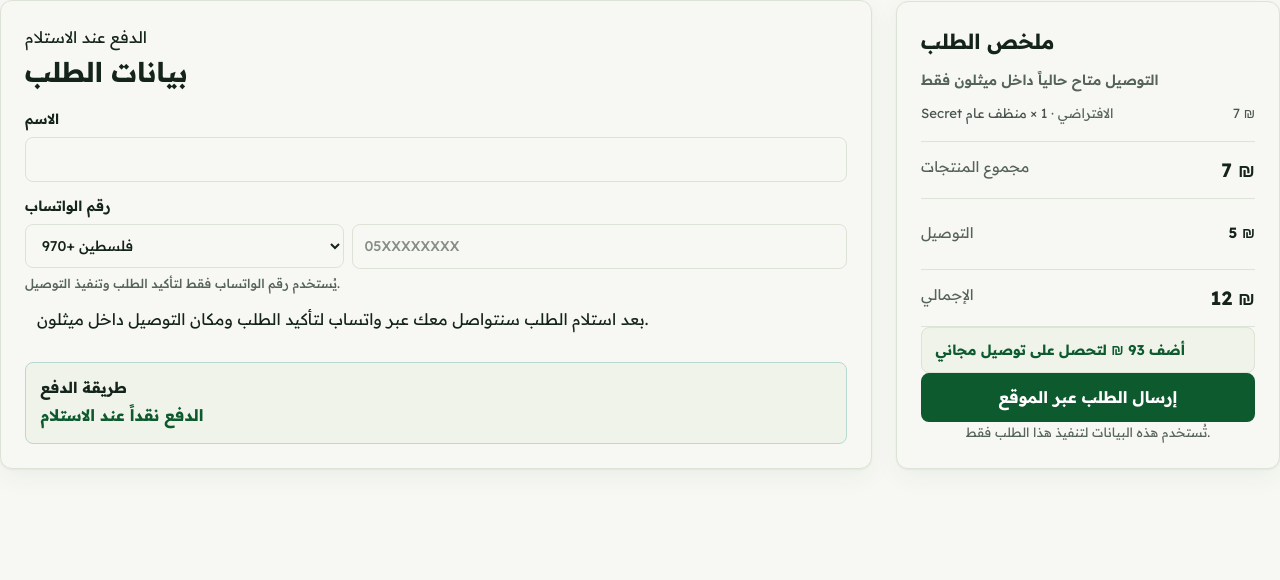
checkout form › preserves the cart when submission fails
In the field labelled "الاسم": (436, 159) [25, 136, 847, 182], type "عميل تجريبي"
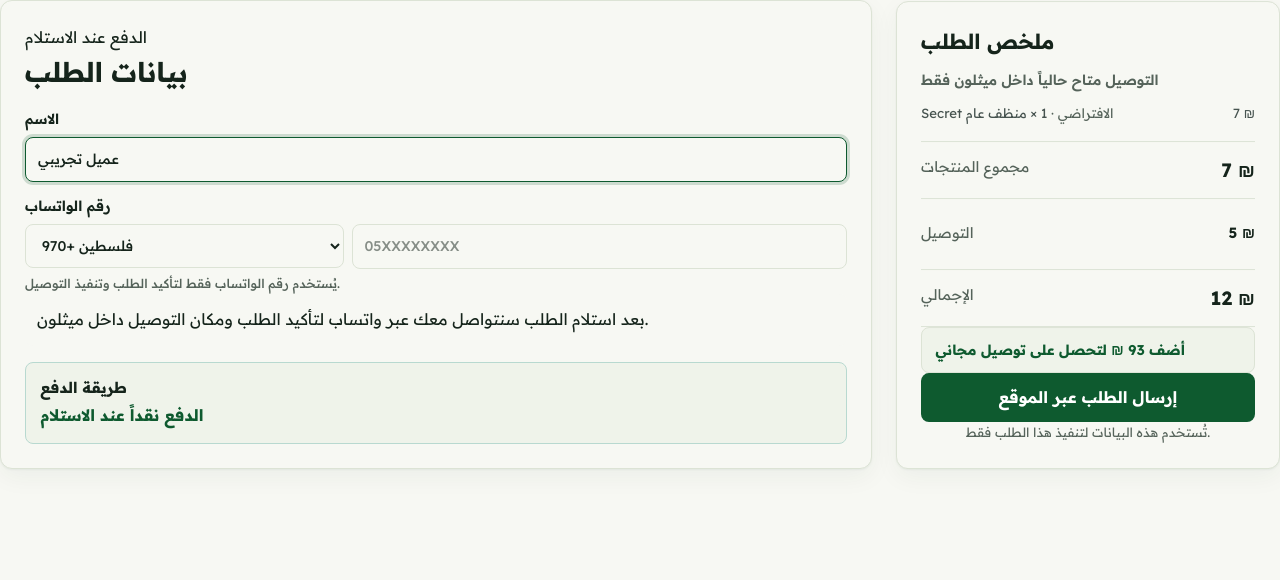
In the field named "الرقم المحلي": (599, 246) [352, 224, 847, 269], type "0591234567"
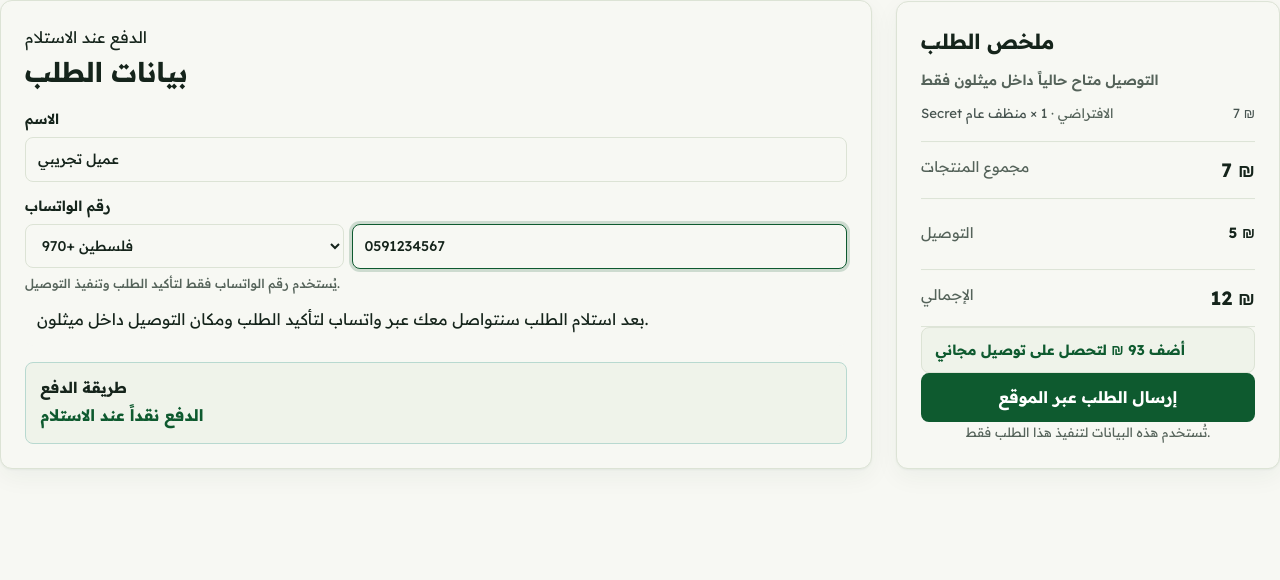
Expected: the text "التوصيل متاح حالياً داخل ميثلون فقط" is shown, [921, 71, 1159, 89]
Click the button "إرسال الطلب عبر الموقع": click(1088, 397) [921, 373, 1255, 422]
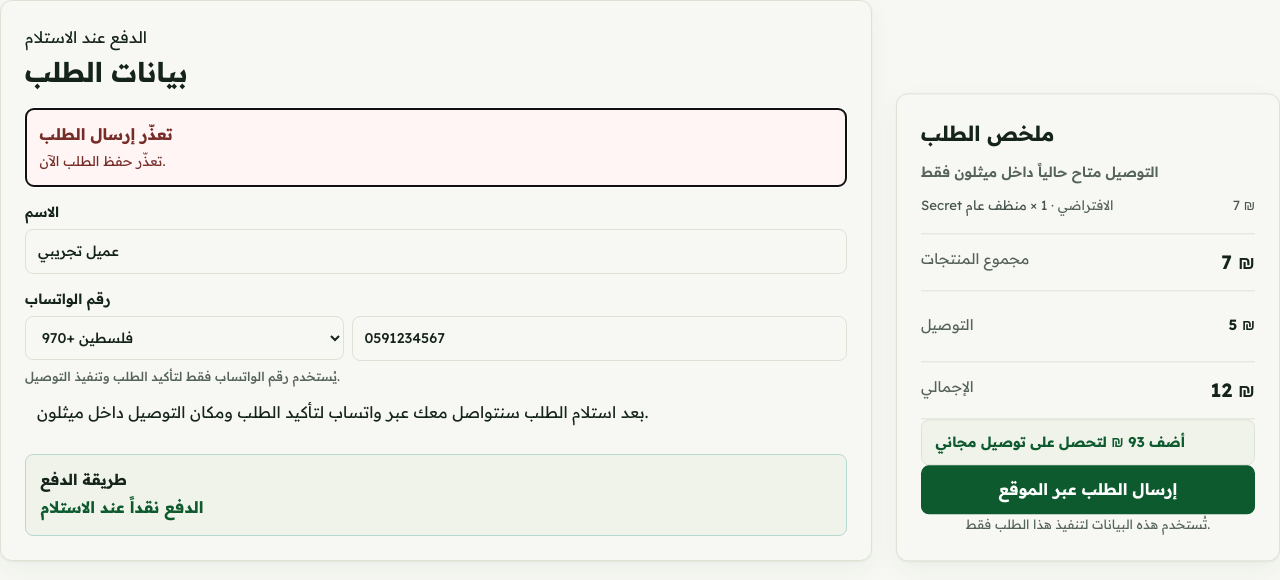
Expected: the text "منظف عام Secret" is shown, [921, 198, 1027, 214]
Expected: the message "تعذّر إرسال الطلب تعذّر حفظ الطلب الآن." is shown, [25, 108, 847, 187]
